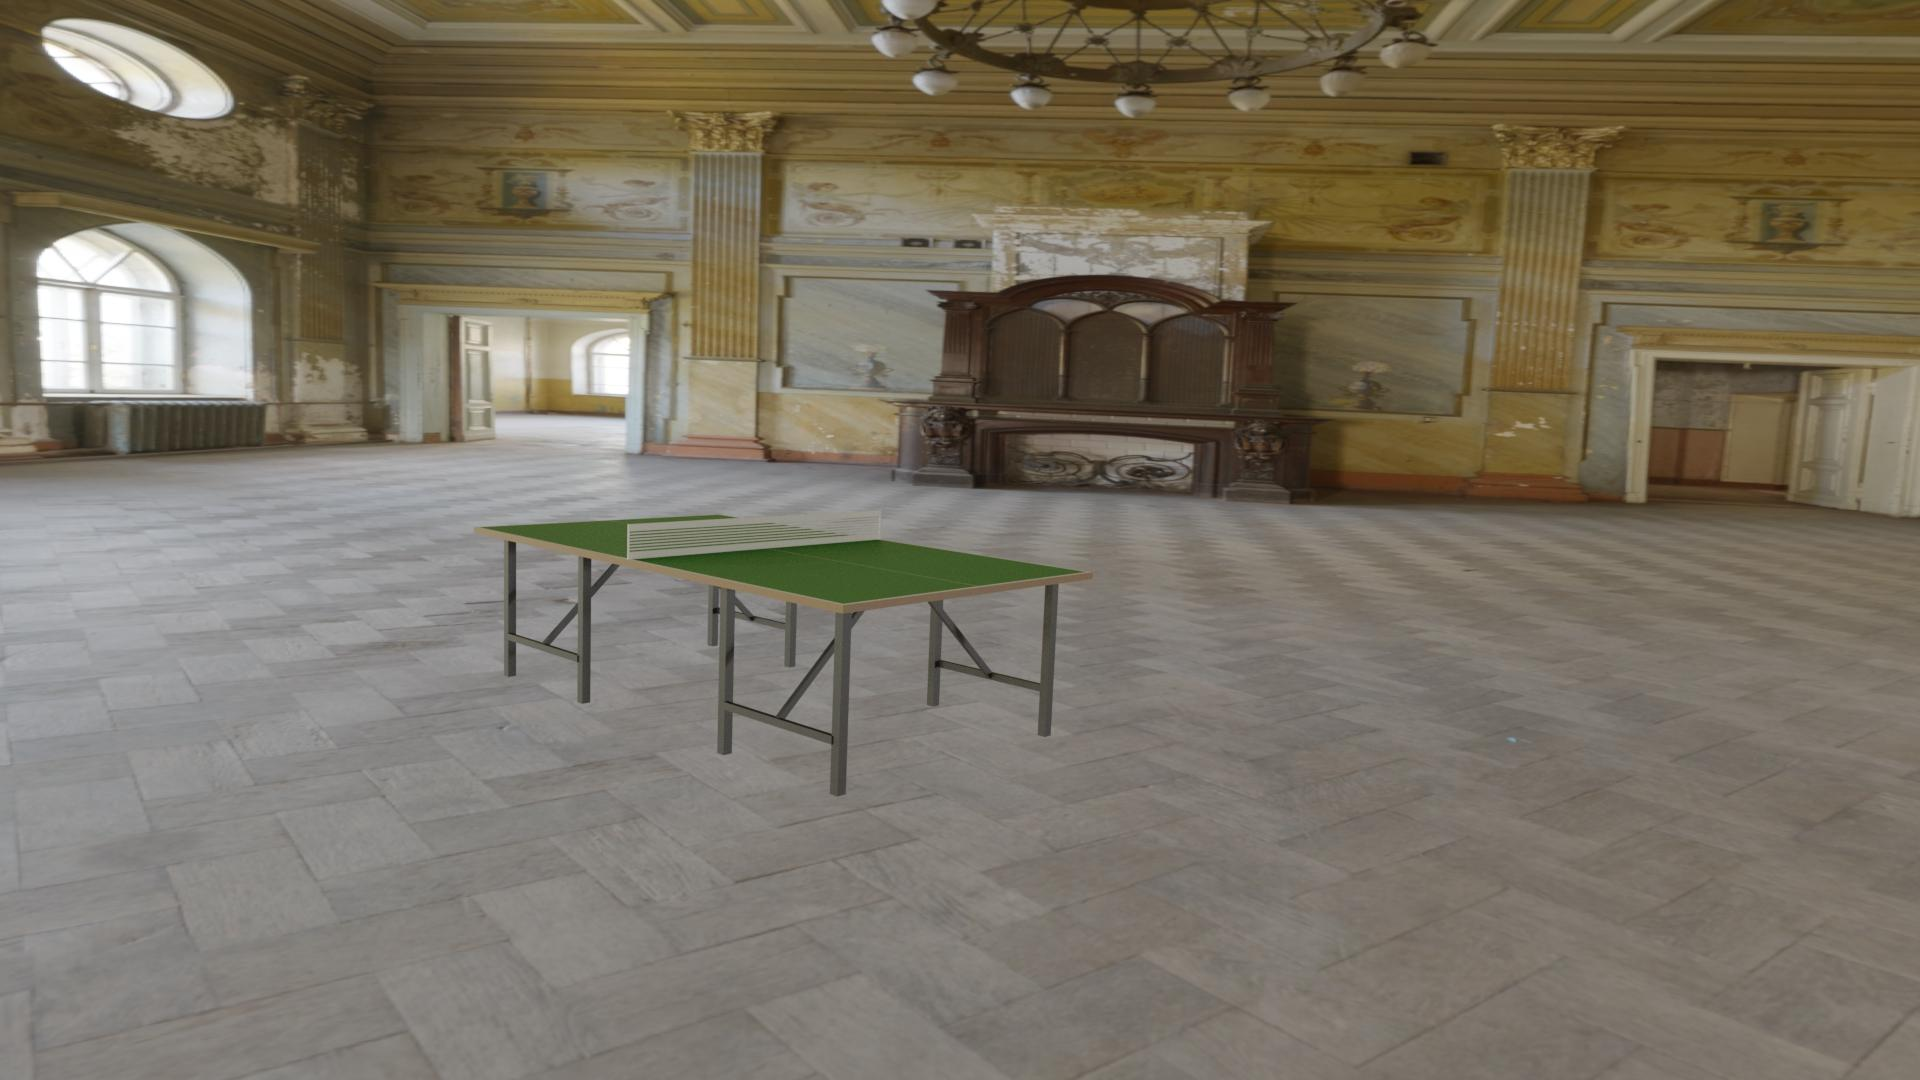table: (479, 514, 1087, 604)
